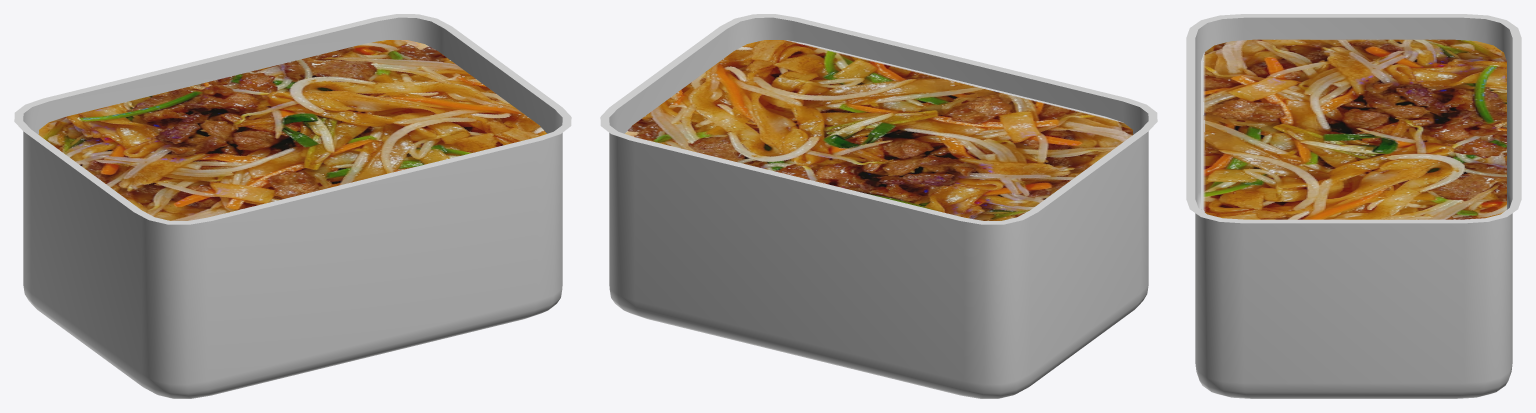
Rendered from ygqgsgcnh.FBX.
The picture shows the model from 3 angles, left to right: view 1: azimuth 30°, elevation 25°; view 2: azimuth 150°, elevation 25°; view 3: azimuth 270°, elevation 25°; orthographic projection.
Visible parts, largest first — view 1: Box001; view 2: Box001; view 3: Box001.
Part boxes in pixels (left/top/right/bottom): Box001: left=14, top=14, right=571, bottom=398; Box001: left=600, top=14, right=1157, bottom=398; Box001: left=1186, top=14, right=1521, bottom=398.
Size of the model in its own units: 0.1169 by 0.0481 by 0.0791.
